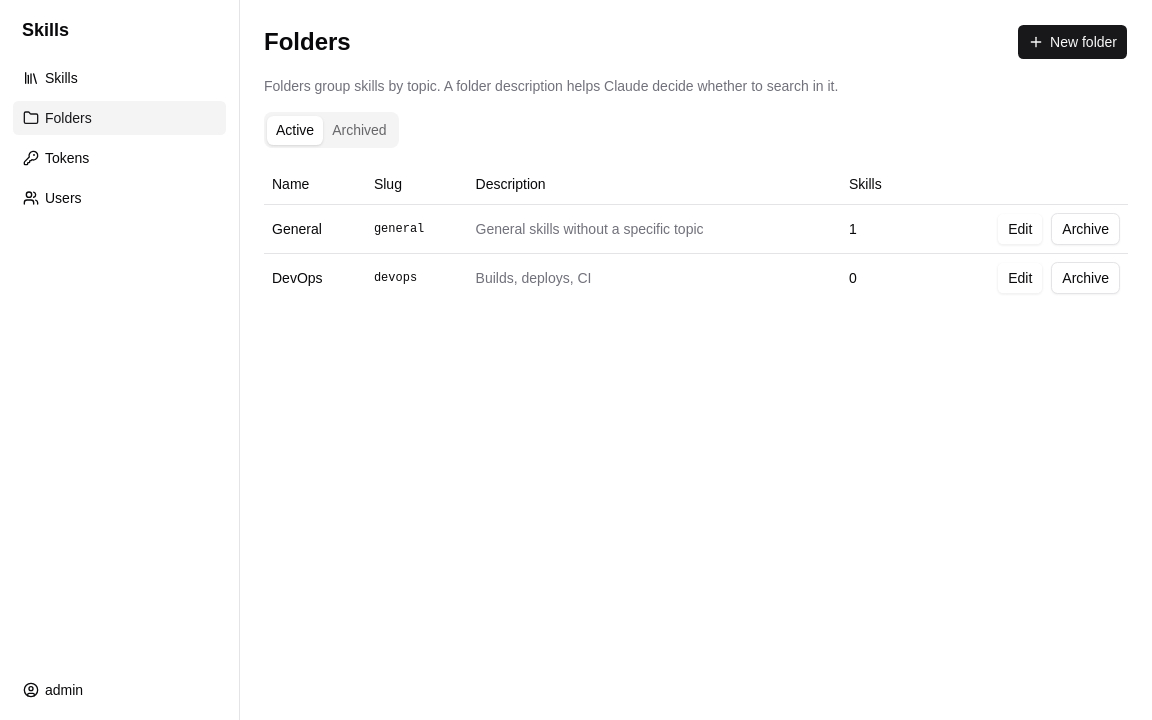
FoldersPage › shows a 409 inside the archive dialog
Click the button "Archive" in the row of "General skills without a specific topic".
click(1086, 228)  # box [1051, 212, 1120, 244]
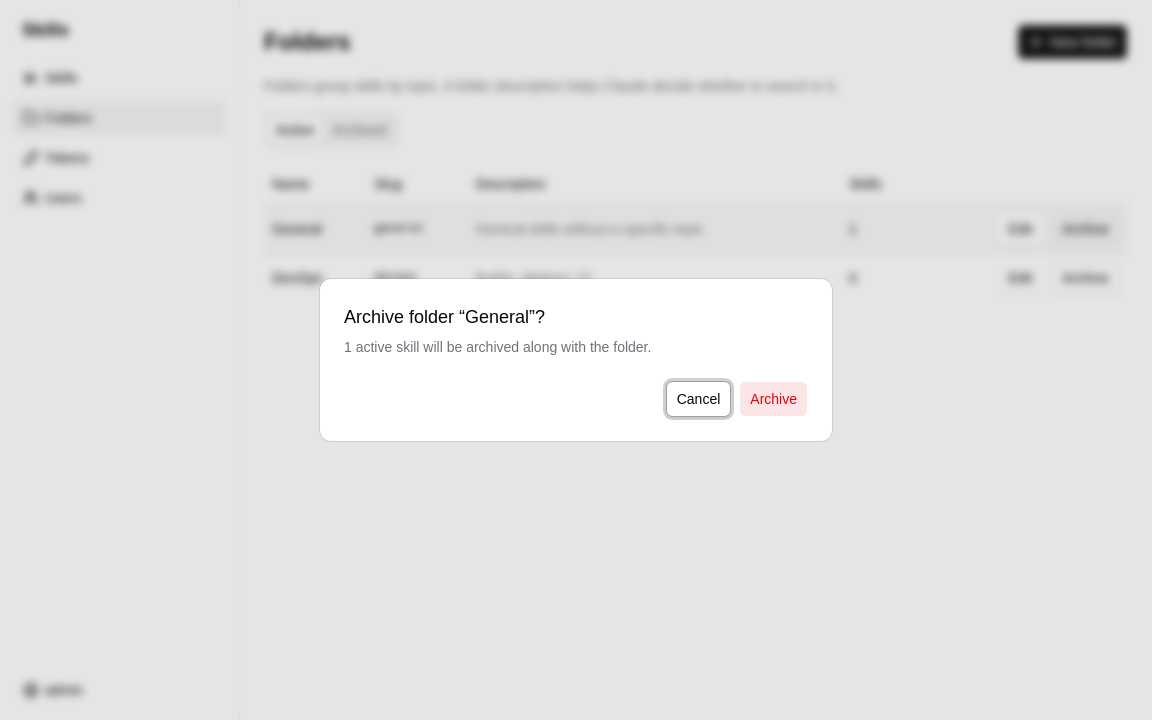
Click the button "Archive".
click(774, 399)  # box [739, 381, 808, 417]
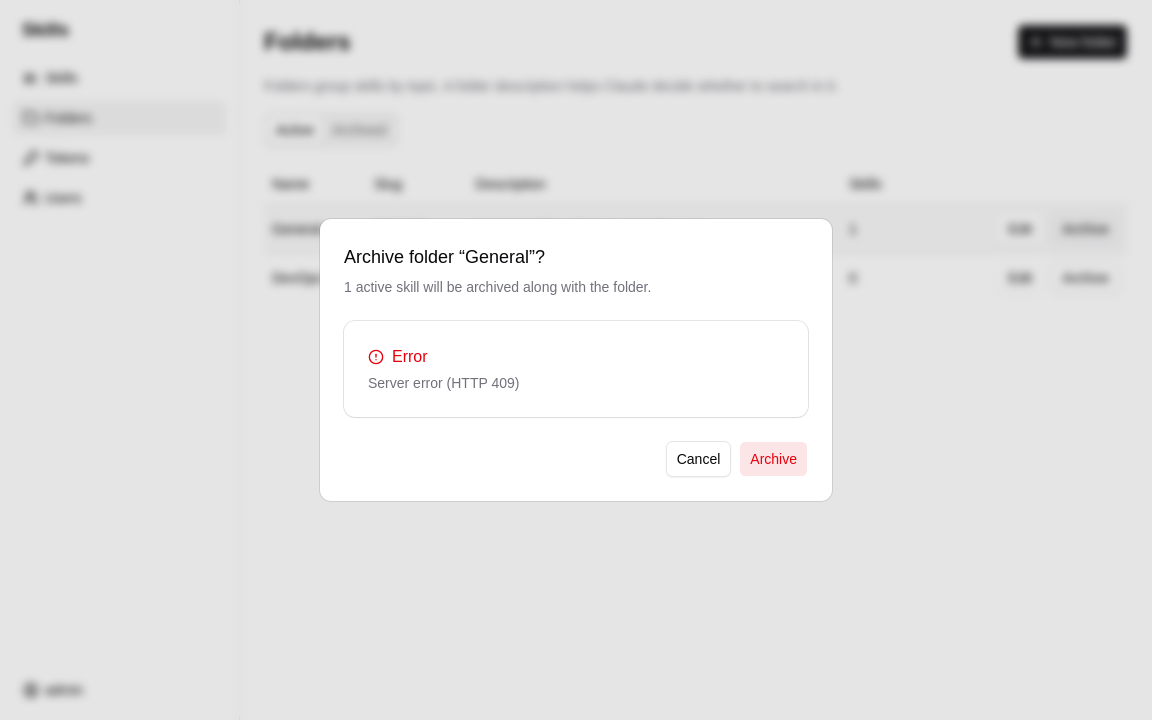
Expected: the message "Error Server error (HTTP 409)" is shown, [344, 321, 808, 417]
